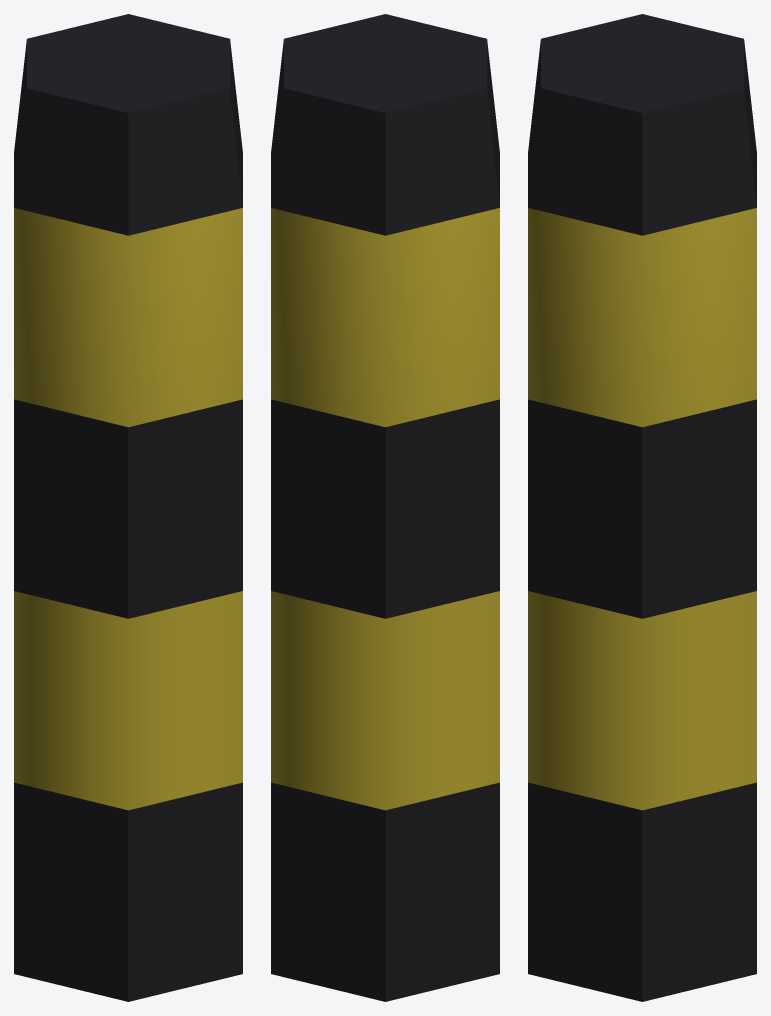
Rendered from Bollard-Hazard_01.fbx.
The picture shows the model from 3 angles, left to right: view 1: azimuth 30°, elevation 25°; view 2: azimuth 150°, elevation 25°; view 3: azimuth 270°, elevation 25°; orthographic projection.
Visible parts, largest first — view 1: Hazard_Bollard; view 2: Hazard_Bollard; view 3: Hazard_Bollard.
Part boxes in pixels (x1=…): Hazard_Bollard: x1=14, y1=14, x2=242, y2=1001; Hazard_Bollard: x1=271, y1=14, x2=499, y2=1001; Hazard_Bollard: x1=528, y1=14, x2=756, y2=1001.
Bounding box in the file's own units: 0.2 × 0.7372 × 0.1732.
